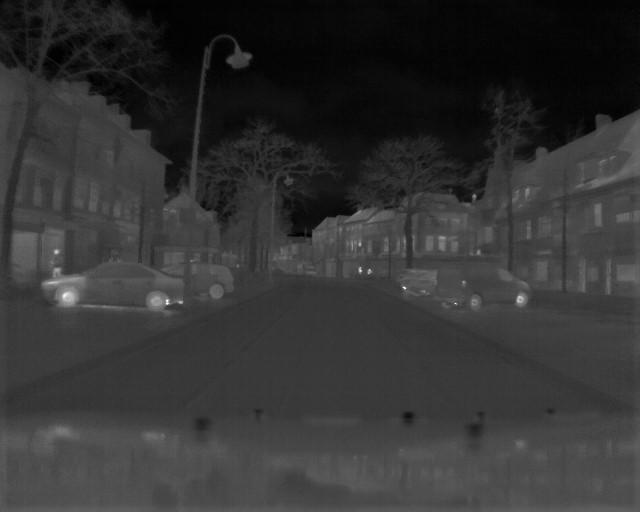car: (43, 262, 186, 313), (431, 260, 533, 310), (161, 262, 237, 302)
person: (51, 247, 64, 280)
